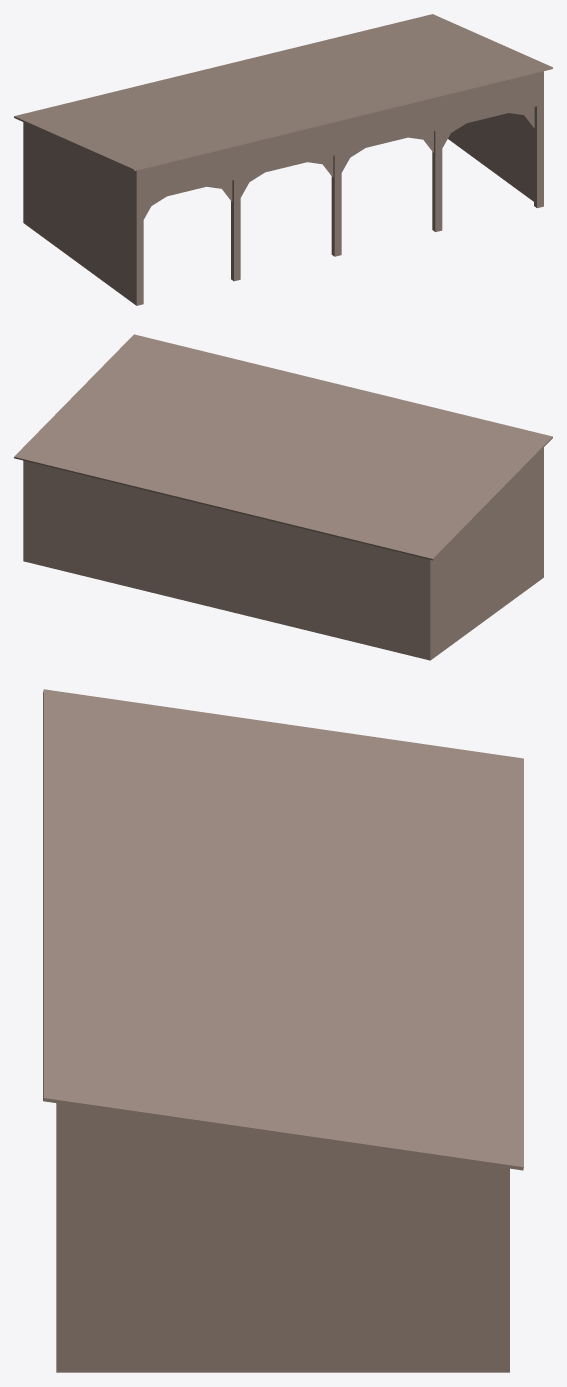
Rendered from Farm_colliders.fbx.
3 views of the same model, one above another, from view 1: azimuth 30°, elevation 25°; view 2: azimuth 150°, elevation 25°; view 3: azimuth 270°, elevation 25° (orthographic). The views are drawn at different scales.
Visible parts, largest first — view 1: Farm Shed 01.012, Farm Shed 01, Farm Shed 01.015, Farm Shed 01.013, Farm Shed 01.017, Farm Shed 01.002, Farm Shed 01.001, Farm Shed 01.003, Farm Shed 01.016; view 2: Farm Shed 01.012, Farm Shed 01.014, Farm Shed 01.015; view 3: Farm Shed 01.012, Farm Shed 01.013.
Boxes of the visible parts, x1,y1,x2,y2 form: Farm Shed 01.012: (14,14,552,170); Farm Shed 01: (137,71,543,201); Farm Shed 01.015: (23,122,136,305); Farm Shed 01.013: (448,113,533,201); Farm Shed 01.017: (534,71,543,208); Farm Shed 01.002: (331,154,341,256); Farm Shed 01.001: (432,129,442,231); Farm Shed 01.003: (231,178,240,281); Farm Shed 01.016: (136,171,143,305); Farm Shed 01.012: (14,334,552,560); Farm Shed 01.014: (23,460,430,660); Farm Shed 01.015: (430,447,543,660); Farm Shed 01.012: (43,689,523,1170); Farm Shed 01.013: (56,1103,509,1372).
Size of the model in its own units: 1906 by 610 by 947.
